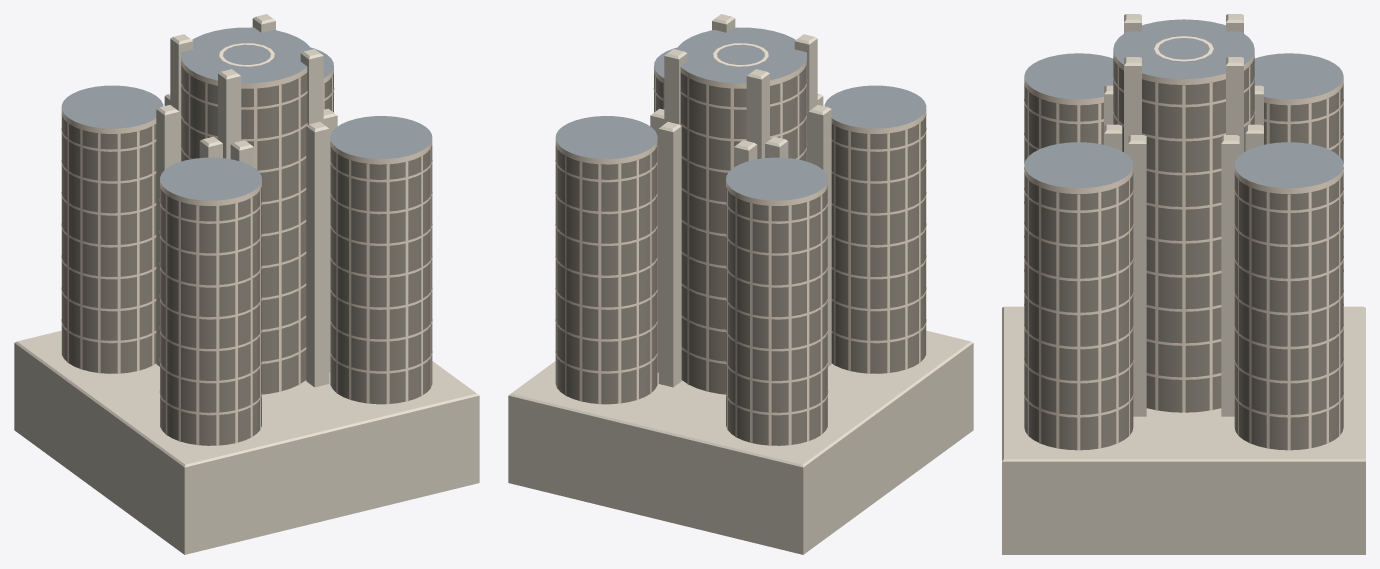
The model's file is la-bonaventure.glb.
3 renders of one model, left to right at view 1: azimuth 30°, elevation 25°; view 2: azimuth 150°, elevation 25°; view 3: azimuth 270°, elevation 25°, orthographic. The views are drawn at different scales.
Parts seen in each view (by area): view 1: Westin Bonaventure Hotel; view 2: Westin Bonaventure Hotel; view 3: Westin Bonaventure Hotel.
Boxes of the visible parts, box(x1,y1,x2,y2) form: Westin Bonaventure Hotel: box(14, 14, 479, 554); Westin Bonaventure Hotel: box(508, 14, 973, 554); Westin Bonaventure Hotel: box(1002, 14, 1365, 554).
Bounding box in the file's own units: 90 × 120 × 90.
